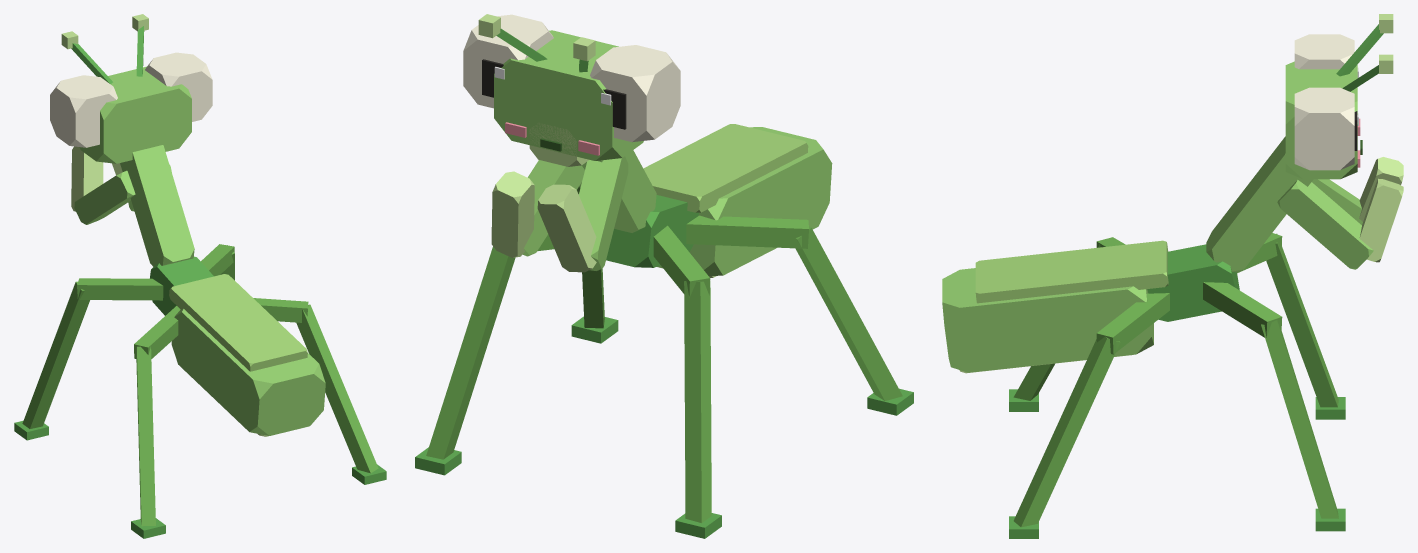
File: praying-mantis-lorenzo-cinalli_bm9Q0hKjcVC-blocky.glb
The picture shows the model from 3 angles, left to right: view 1: azimuth 30°, elevation 25°; view 2: azimuth 150°, elevation 25°; view 3: azimuth 270°, elevation 25°; orthographic projection. The views are drawn at different scales.
Visible parts, largest first — view 1: Node; view 2: Node; view 3: Node.
Boxes of the visible parts, left/top/right/bottom form: Node: left=14, top=14, right=386, bottom=538; Node: left=415, top=14, right=913, bottom=538; Node: left=942, top=14, right=1403, bottom=538.
Size of the model in its own units: 0.55 by 0.794 by 0.7674.
1 material, 1 textured.
